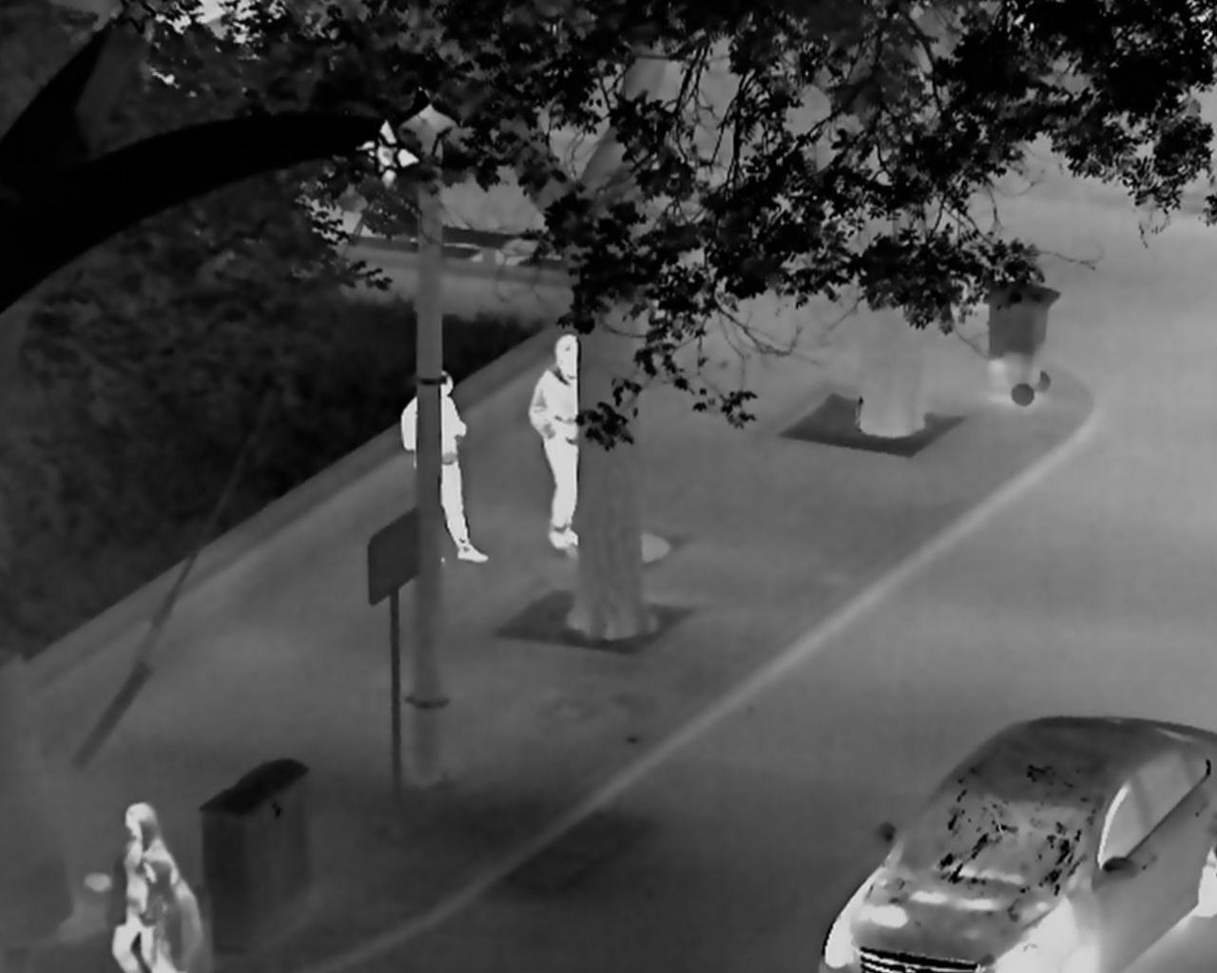person: (400, 371, 490, 566), (112, 799, 182, 973), (529, 334, 580, 557), (138, 851, 204, 973)
